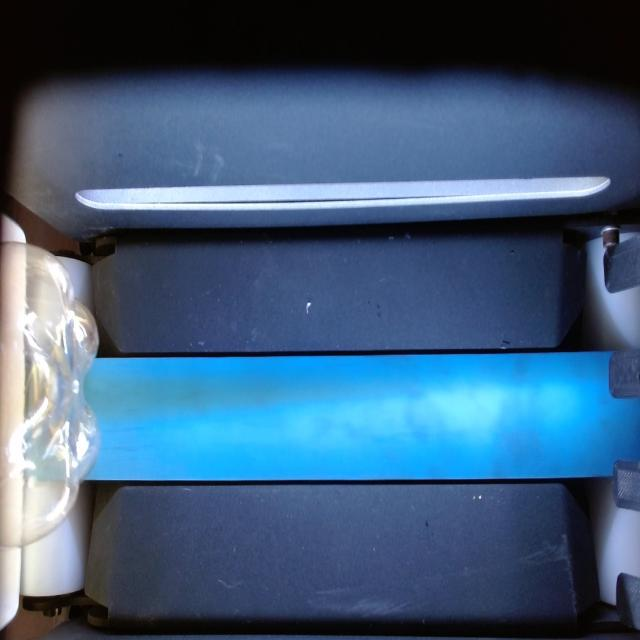bottle: (0, 244, 99, 547)
